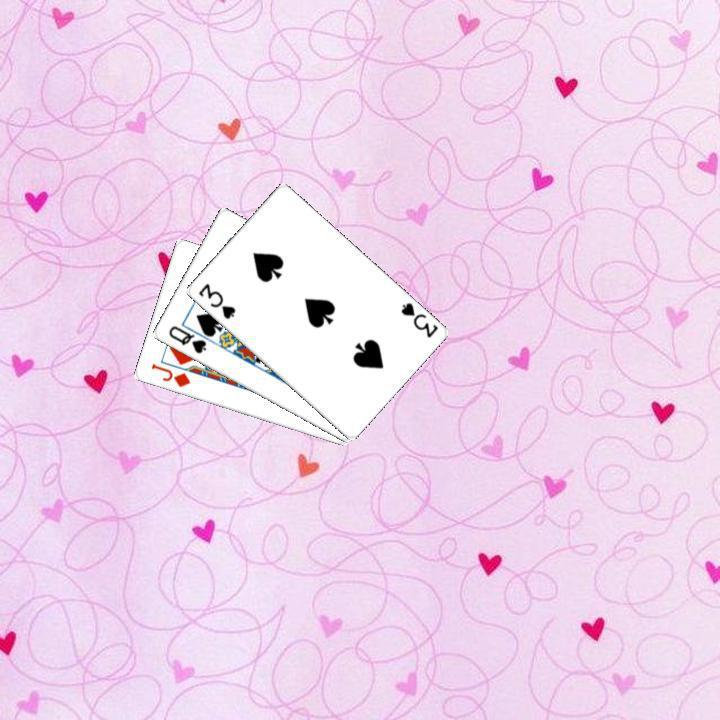3: (194, 279, 237, 321), (396, 298, 439, 340)
J: (146, 359, 192, 390)
Q: (164, 321, 208, 356)
